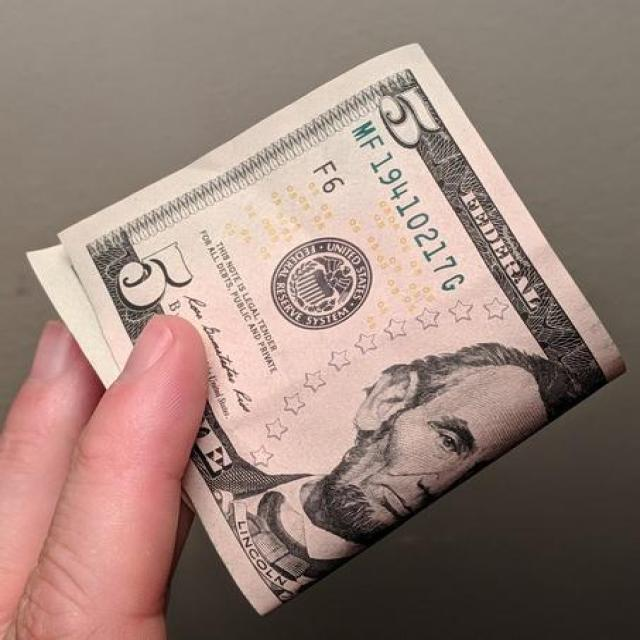5-Front: (24, 41, 632, 621)
